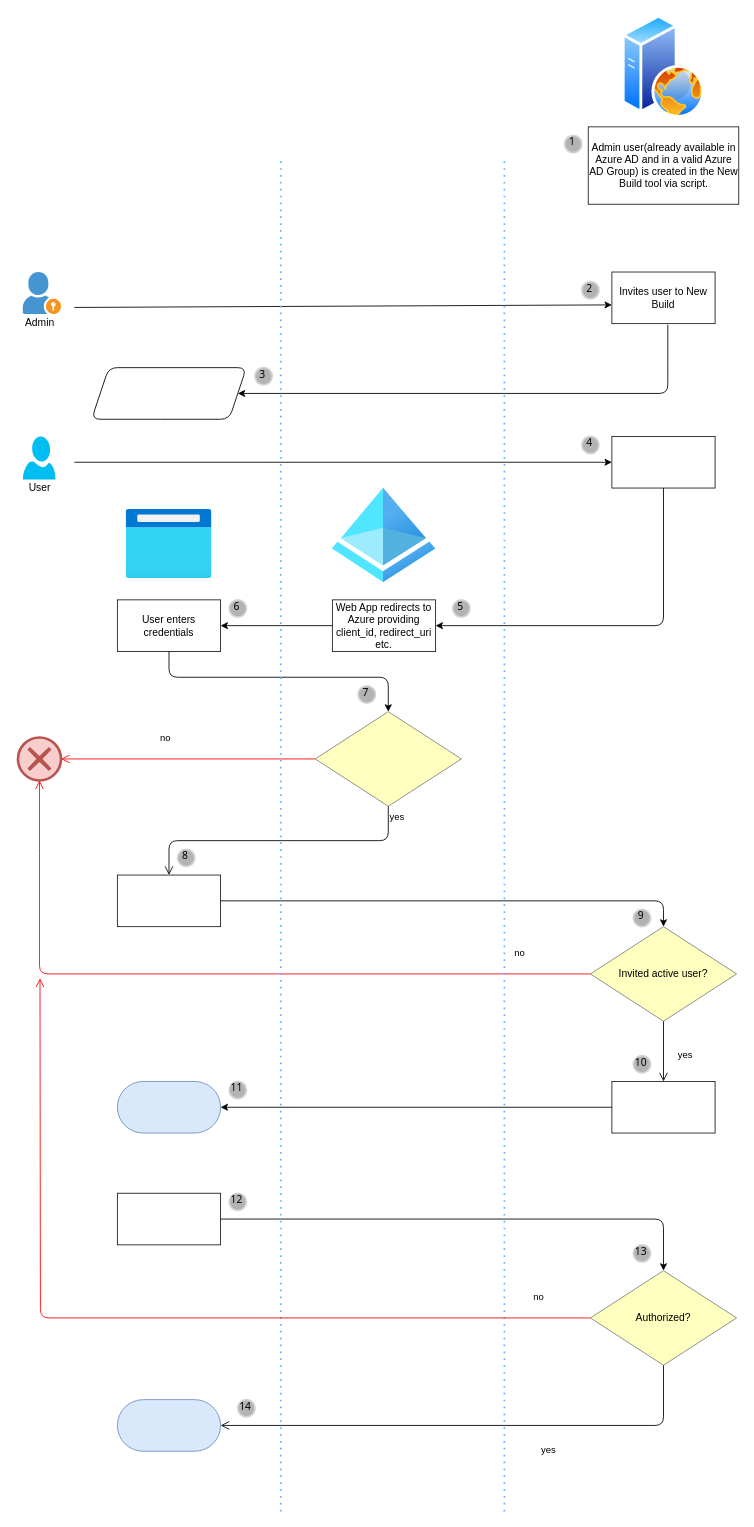
Image size: 754x1527. Some labels were removed from this diagram. Here are the shapes that lost their labels. From the top down, the centre of each, then its label:
At (168,393): "User receives invitation email with a link to the portal dashboard".
At (663,462): "Navigates to the Web App".
At (387,758): "Valid credentials & in a Valid Azure AD group?".
At (169,900): "User consents to permissions (User.read)".
At (169,1107): "Returns secure page to the user".
At (663,1107): "Validates id_token, sets_session cookie".
At (169,1218): "User requests access to resources".
At (169,1425): "Responds with resource".
